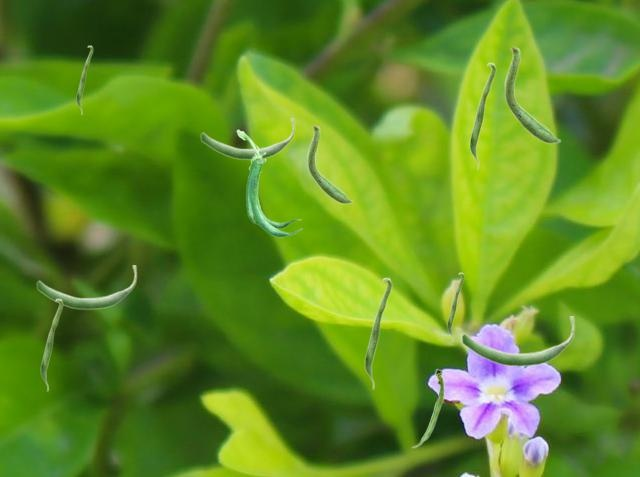french_bean: (236, 129, 301, 236), (461, 316, 574, 366), (504, 45, 560, 143), (36, 265, 136, 309), (200, 118, 294, 159), (307, 124, 352, 203), (364, 277, 391, 389), (469, 62, 495, 169), (411, 368, 443, 447), (40, 298, 62, 391), (76, 45, 92, 114), (447, 272, 463, 341)
